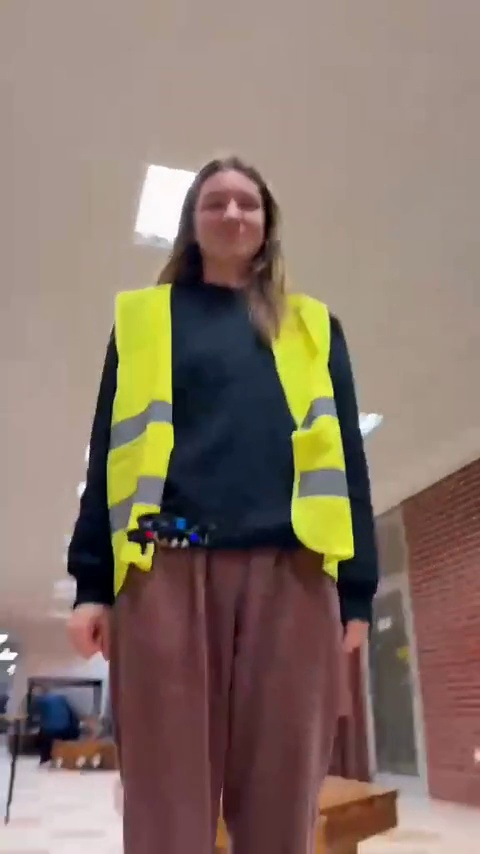drone: (119, 508, 216, 551)
vest: (83, 157, 375, 853)
